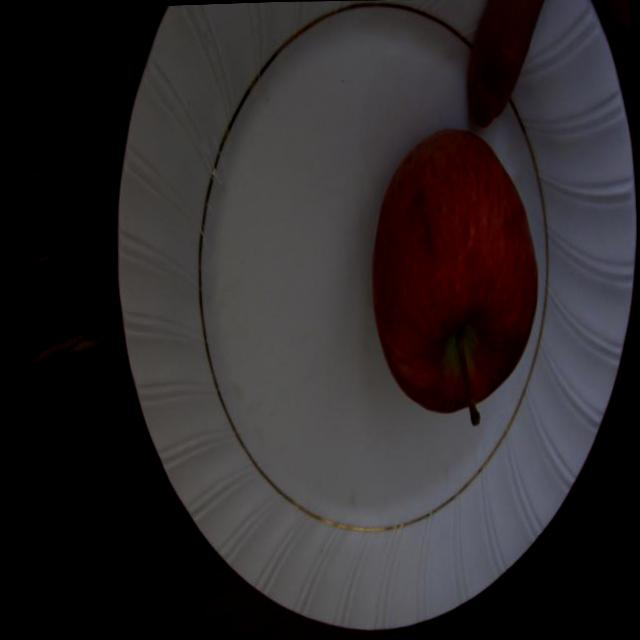Apple: (356, 116, 550, 437)
Finger: (452, 2, 535, 134)
